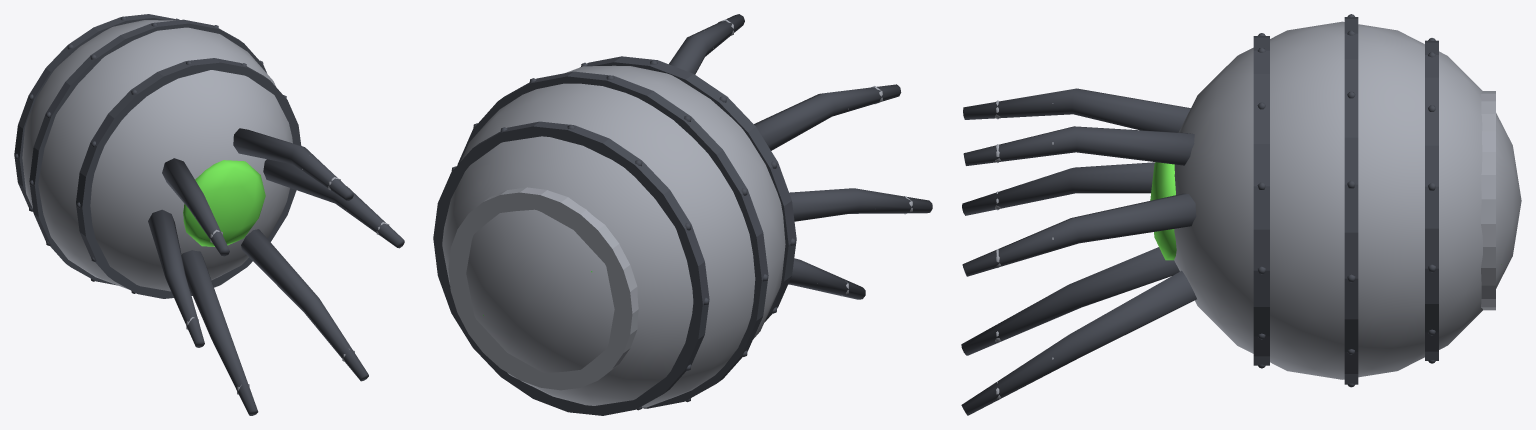
File: spazmatism.glb
The picture shows the model from 3 angles, left to right: view 1: azimuth 30°, elevation 25°; view 2: azimuth 150°, elevation 25°; view 3: azimuth 270°, elevation 25°; orthographic projection. The views are drawn at different scales.
Parts seen in each view (by area): view 1: twin_lens_flare; view 2: twin_lens_flare; view 3: twin_lens_flare.
Boxes of the visible parts, x1,y1,x2,y2 form: twin_lens_flare: [14, 14, 404, 415]; twin_lens_flare: [433, 14, 932, 415]; twin_lens_flare: [961, 14, 1521, 415].
Size of the model in its own units: 2.72 by 2.85 by 4.07.
